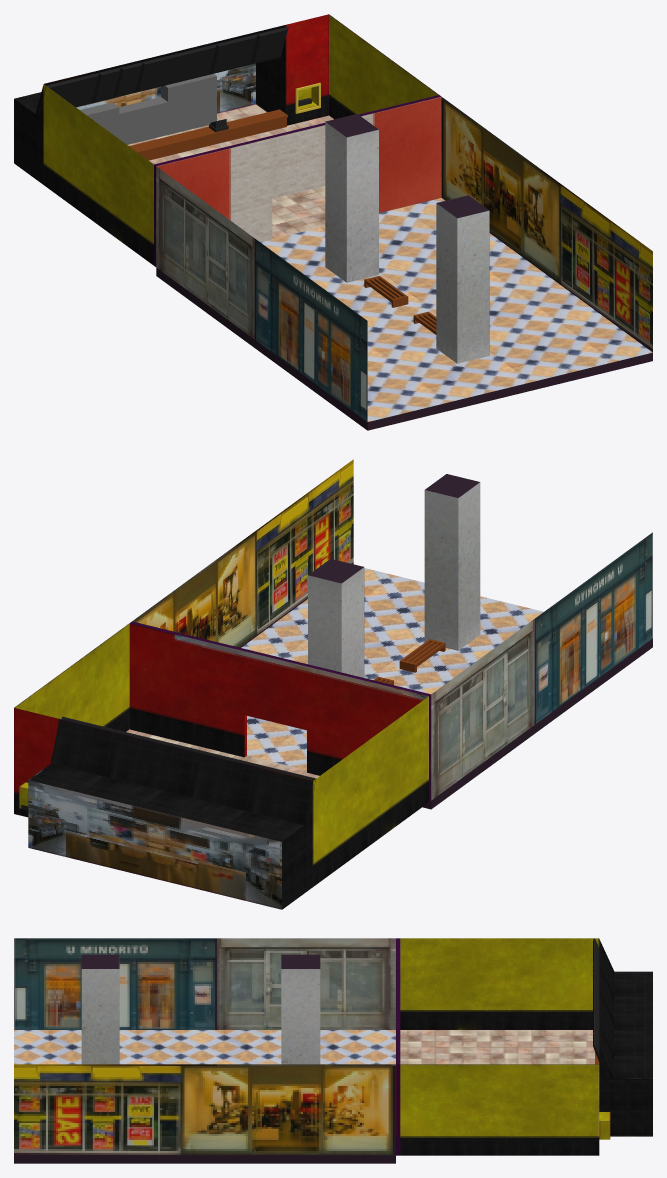
Rendered from mapa (1).fbx.
The picture shows the model from 3 angles, top to bottom: view 1: azimuth 30°, elevation 25°; view 2: azimuth 150°, elevation 25°; view 3: azimuth 270°, elevation 25°; orthographic projection. The views are drawn at different scales.
Parts seen in each view (by area): view 1: Pasillo_CC_MD, MC, Mostrador, Cocina_1, Panel_3, Cocina_2, Panel_2, Panel_6, Panel_1, Cocina_3, Banco_2, Panel_4 (+1 smaller); view 2: MC, Pasillo_CC_MD, Banco_1; view 3: Pasillo_CC_MD, MC.
Boxes of the visible parts, <box> form: Pasillo_CC_MD: <box>156,97,652,430</box>; MC: <box>14,14,441,266</box>; Mostrador: <box>129,109,287,160</box>; Cocina_1: <box>161,73,216,134</box>; Panel_3: <box>134,44,216,92</box>; Cocina_2: <box>119,97,167,144</box>; Panel_2: <box>208,34,257,74</box>; Panel_6: <box>38,73,98,114</box>; Panel_1: <box>249,26,288,64</box>; Cocina_3: <box>80,102,119,138</box>; Banco_2: <box>364,275,408,307</box>; Panel_4: <box>113,62,142,98</box>; MC: <box>14,621,431,909</box>; Pasillo_CC_MD: <box>132,459,652,809</box>; Banco_1: <box>399,639,445,672</box>; Pasillo_CC_MD: <box>14,938,395,1163</box>; MC: <box>396,938,652,1155</box>.
Bounding box in the file's own units: 2020 × 1041 × 4335.
6 materials, 2 textured.
